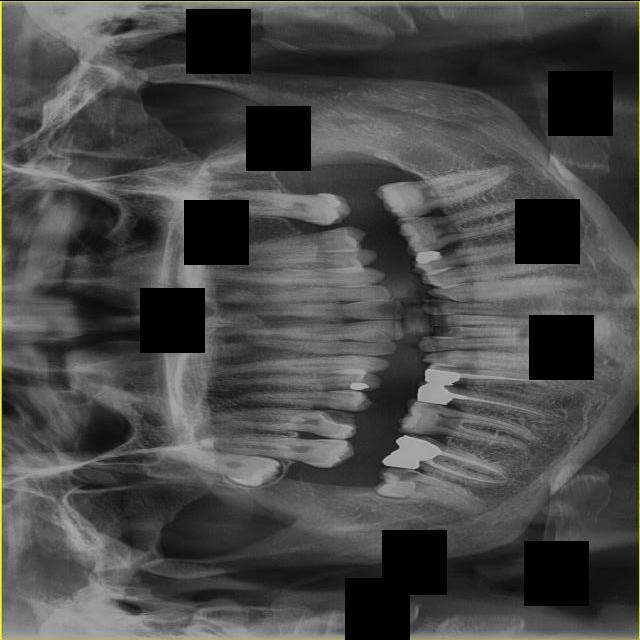71: (448, 391, 468, 400)
74: (421, 454, 493, 488), (438, 447, 510, 479), (465, 395, 546, 415), (460, 372, 543, 384)
NucleOSS Implant: (381, 431, 443, 472), (418, 380, 453, 404), (421, 367, 461, 385), (414, 246, 443, 266), (350, 382, 369, 390)
Sterngold Implant: (379, 464, 421, 483), (320, 409, 355, 426), (434, 248, 459, 259), (419, 401, 443, 411), (319, 430, 338, 440), (407, 431, 429, 439), (421, 242, 442, 249), (317, 439, 336, 443), (307, 193, 326, 197)
